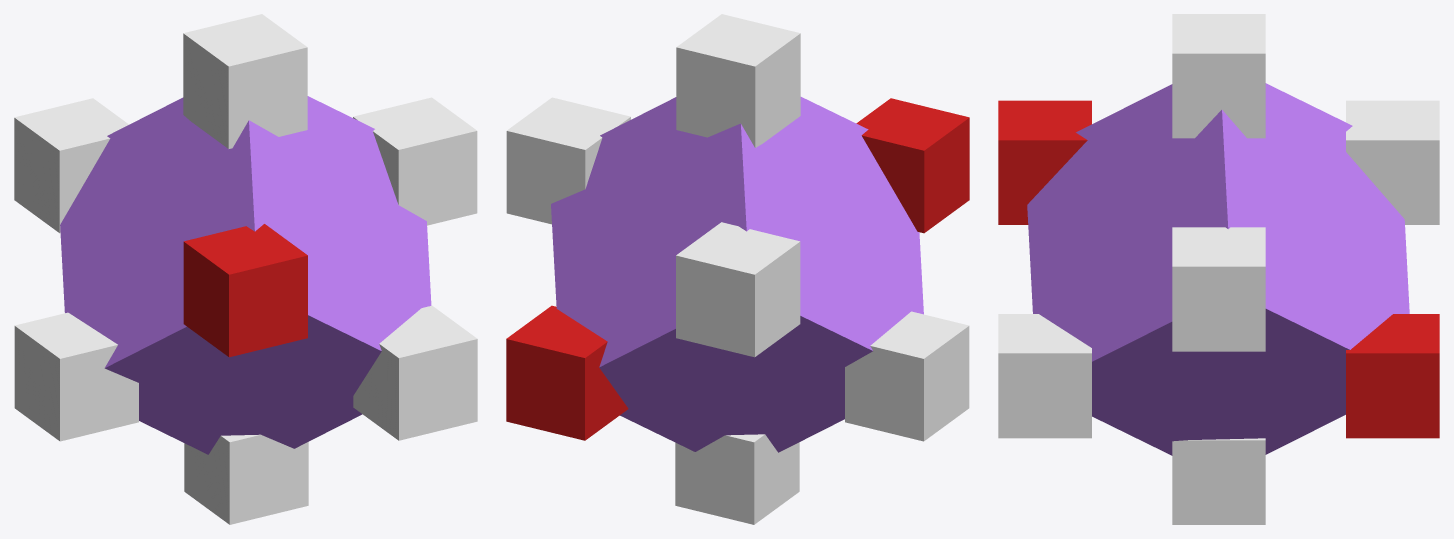
Rendered from stack-sodium hydroxide.glb.
3 renders of one model, left to right at view 1: azimuth 30°, elevation 25°; view 2: azimuth 150°, elevation 25°; view 3: azimuth 270°, elevation 25°, orthographic. The views are drawn at different scales.
Parts seen in each view (by area): view 1: Cube.030; view 2: Cube.030; view 3: Cube.030.
Part boxes in pixels (x1,y1,x2,y2): Cube.030: (14, 14, 477, 524); Cube.030: (506, 14, 969, 524); Cube.030: (998, 14, 1439, 524).
Bounding box in the file's own units: 2.67 × 2.81 × 2.38.
1 material, 1 textured.
